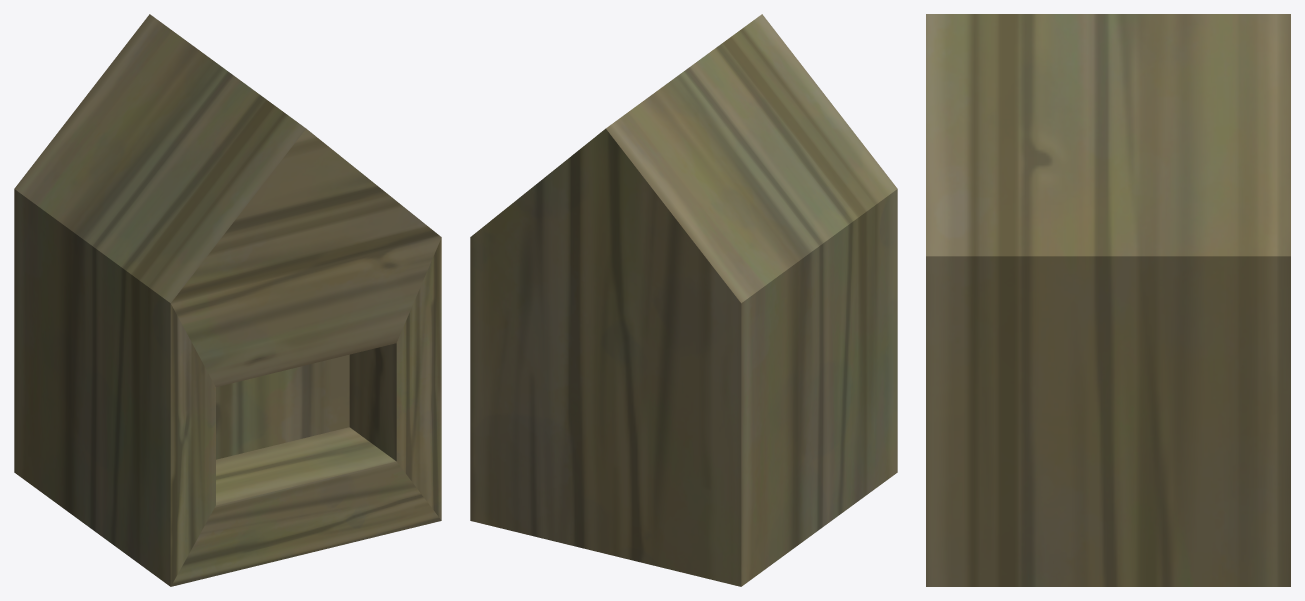
File: SM_Wood_Small_House.fbx
The picture shows the model from 3 angles, left to right: view 1: azimuth 30°, elevation 25°; view 2: azimuth 150°, elevation 25°; view 3: azimuth 270°, elevation 25°; orthographic projection. The views are drawn at different scales.
Parts seen in each view (by area): view 1: Wood_house; view 2: Wood_house; view 3: Wood_house.
Boxes of the visible parts, box(x1,y1,x2,y2) form: Wood_house: box(14, 14, 441, 586); Wood_house: box(470, 14, 897, 586); Wood_house: box(926, 14, 1290, 586).
Size of the model in its own units: 0.4 by 0.6 by 0.4.
